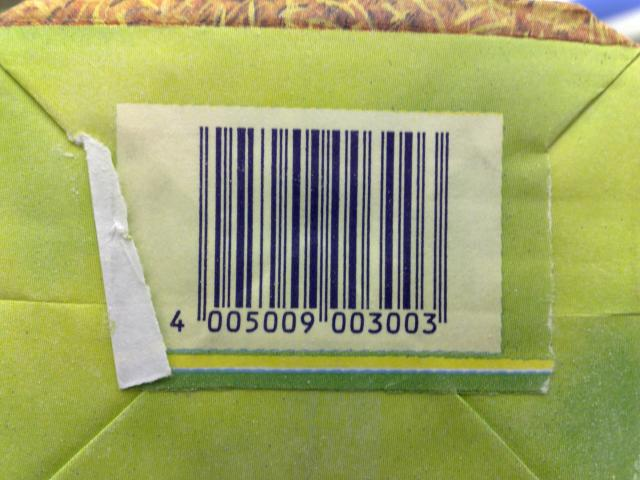Barkod: (195, 125, 446, 308)
